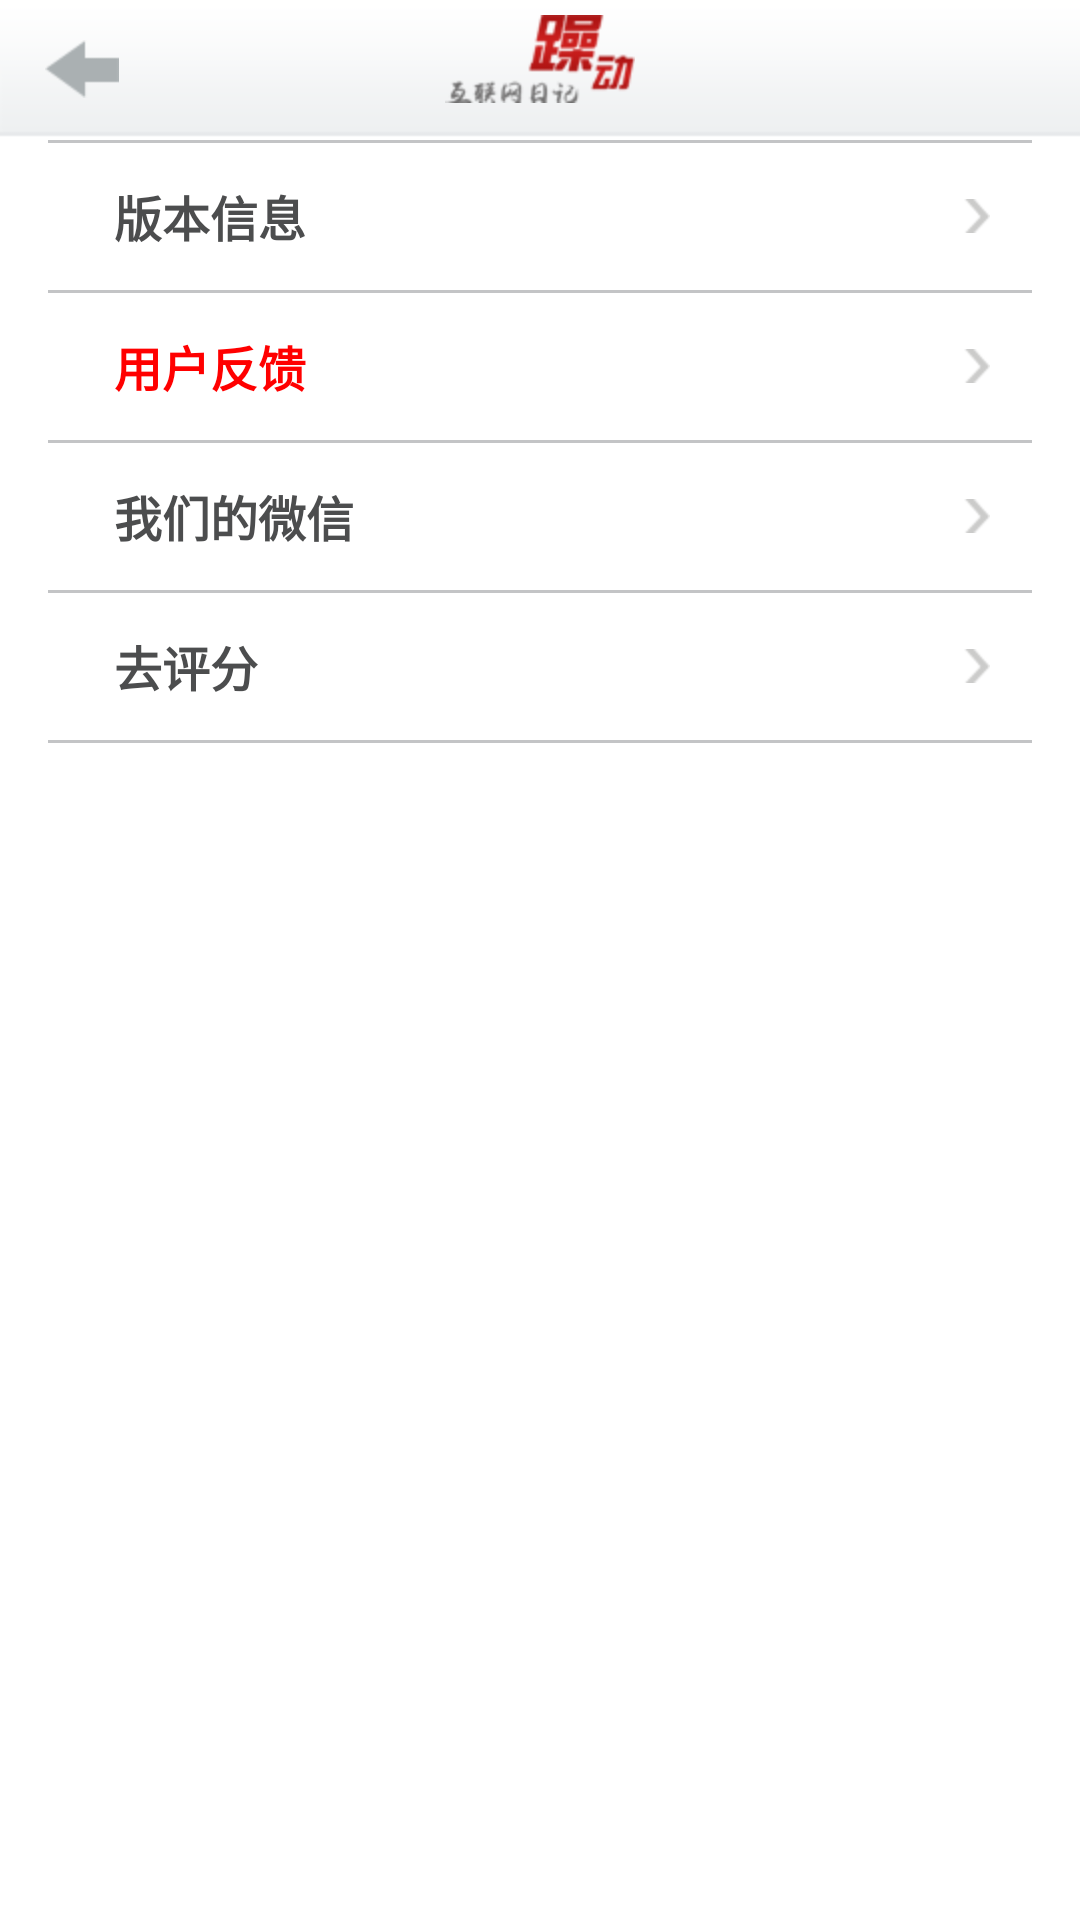

Icons on this 1080px×1920px Android screen, each with the point to tap as point (x, y):
one details page arrowhead: point (977, 216), point (977, 366), point (977, 516), point (977, 666)
